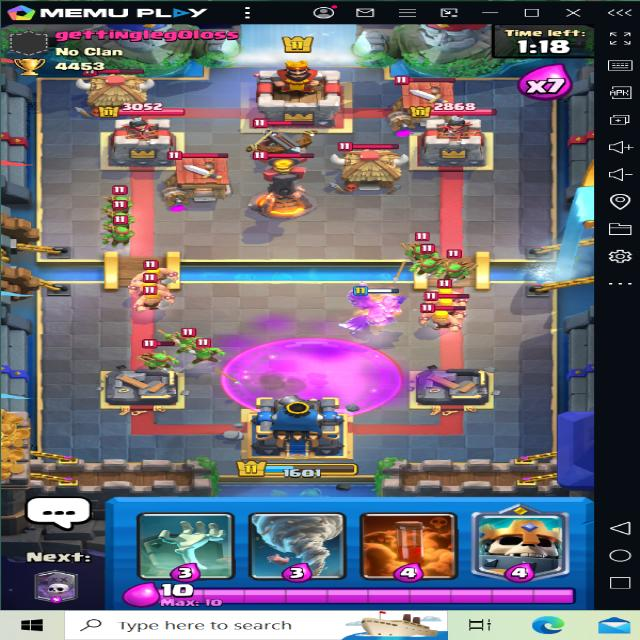barbarian: (130, 258, 188, 282), (414, 308, 464, 332), (128, 274, 182, 295), (131, 286, 177, 310), (417, 296, 471, 314), (422, 284, 466, 306)
barbarian-hut: (162, 148, 235, 199), (390, 74, 462, 124)
goblin-hut: (330, 140, 412, 196), (77, 64, 150, 113)
inferno-tower: (253, 149, 319, 215)
rage: (225, 325, 405, 414)
spear-goblin: (440, 252, 475, 281), (100, 217, 138, 243), (413, 247, 443, 277), (406, 232, 438, 260), (100, 204, 138, 226), (99, 187, 136, 209), (190, 336, 220, 363), (143, 341, 171, 369), (168, 327, 199, 350)
x-bow: (234, 112, 322, 168)
